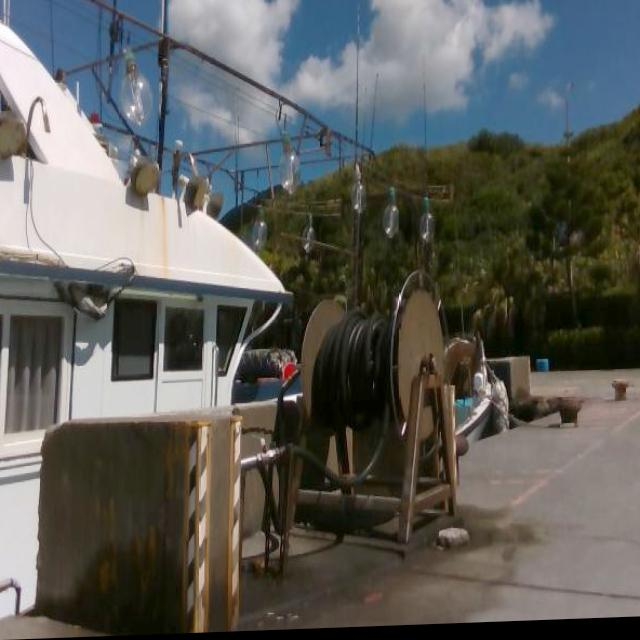pollute: (534, 360, 550, 379)
